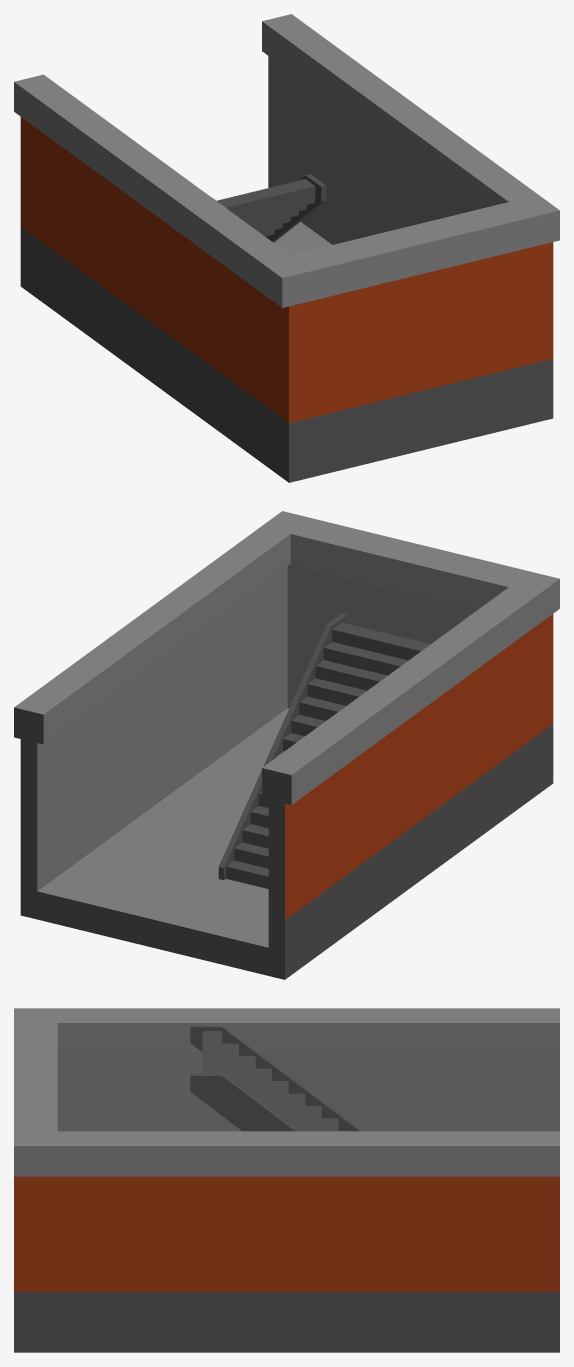
Rendered from Building_06.fbx.
The picture shows the model from 3 angles, top to bottom: view 1: azimuth 30°, elevation 25°; view 2: azimuth 150°, elevation 25°; view 3: azimuth 270°, elevation 25°; orthographic projection.
Visible parts, largest first — view 1: Building_06; view 2: Building_06; view 3: Building_06.
Boxes of the visible parts, x1,y1,x2,y2 form: Building_06: (14, 14, 559, 482); Building_06: (14, 511, 559, 979); Building_06: (14, 1008, 559, 1352).
Size of the model in its own units: 430 by 305 by 720.
1 material, 1 textured.
